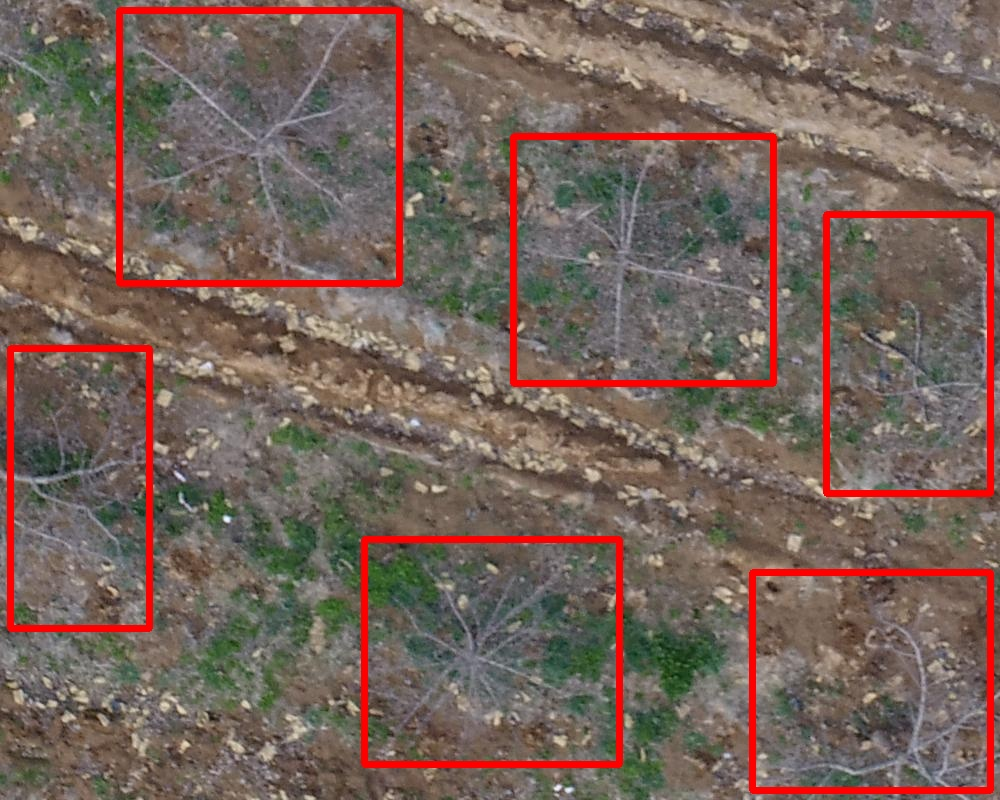apple: (119, 10, 399, 283), (513, 136, 773, 383), (364, 539, 619, 764), (752, 572, 990, 790), (826, 214, 990, 493), (10, 348, 149, 628)
